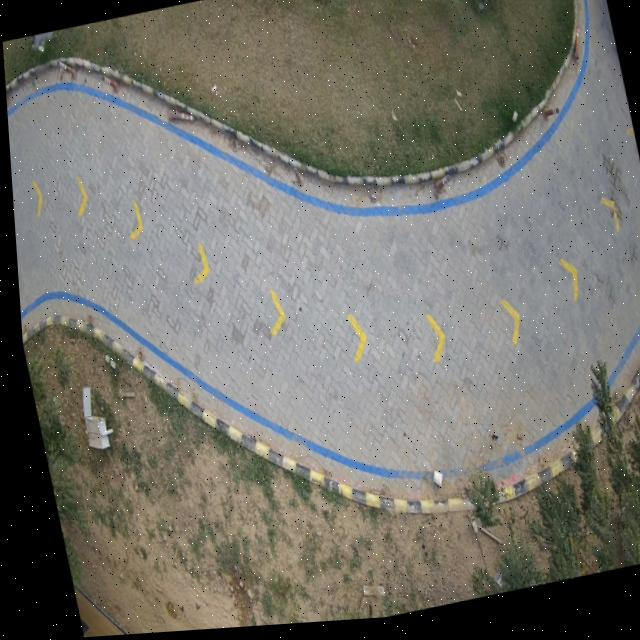No Car: (2, 0, 640, 638)
